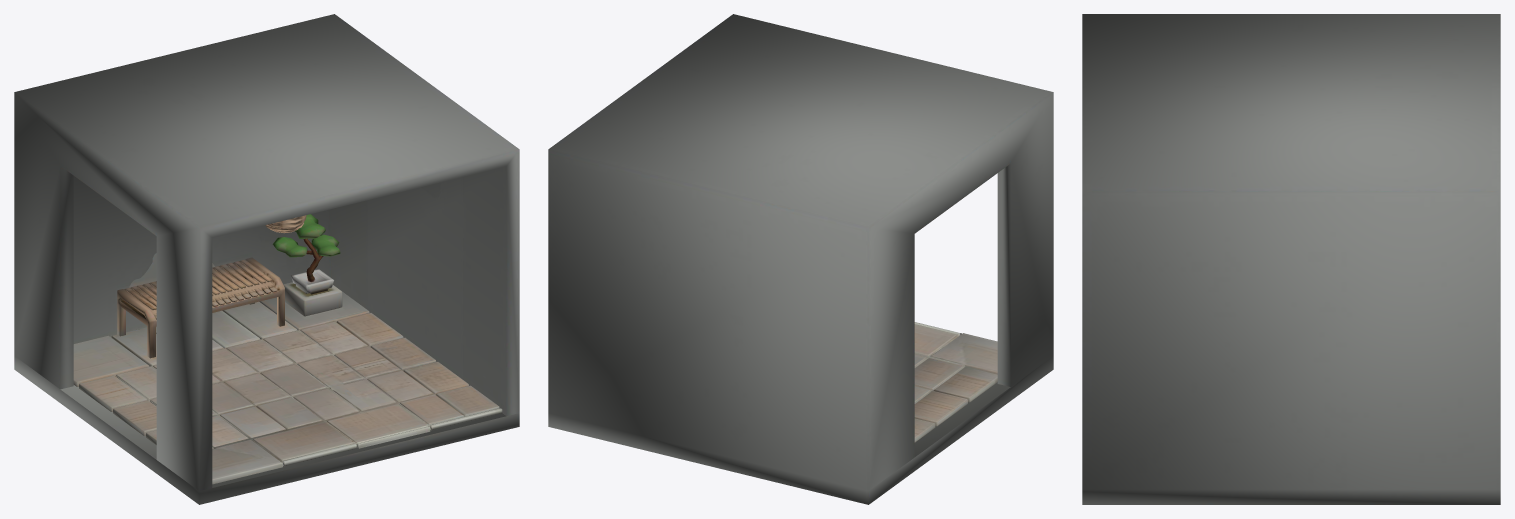
Rendered from original_glb.glb.
3 renders of one model, left to right at view 1: azimuth 30°, elevation 25°; view 2: azimuth 150°, elevation 25°; view 3: azimuth 270°, elevation 25°, orthographic. The views are drawn at different scales.
Visible parts, largest first — view 1: Ground vestibule; view 2: Ground vestibule; view 3: Ground vestibule.
Part boxes in pixels (x1,y1,x2,y2): Ground vestibule: (14,14,519,504); Ground vestibule: (548,14,1053,504); Ground vestibule: (1082,14,1500,504).
Bounding box in the file's own units: 0.998 × 0.8262 × 0.998.
1 material, 1 textured.
